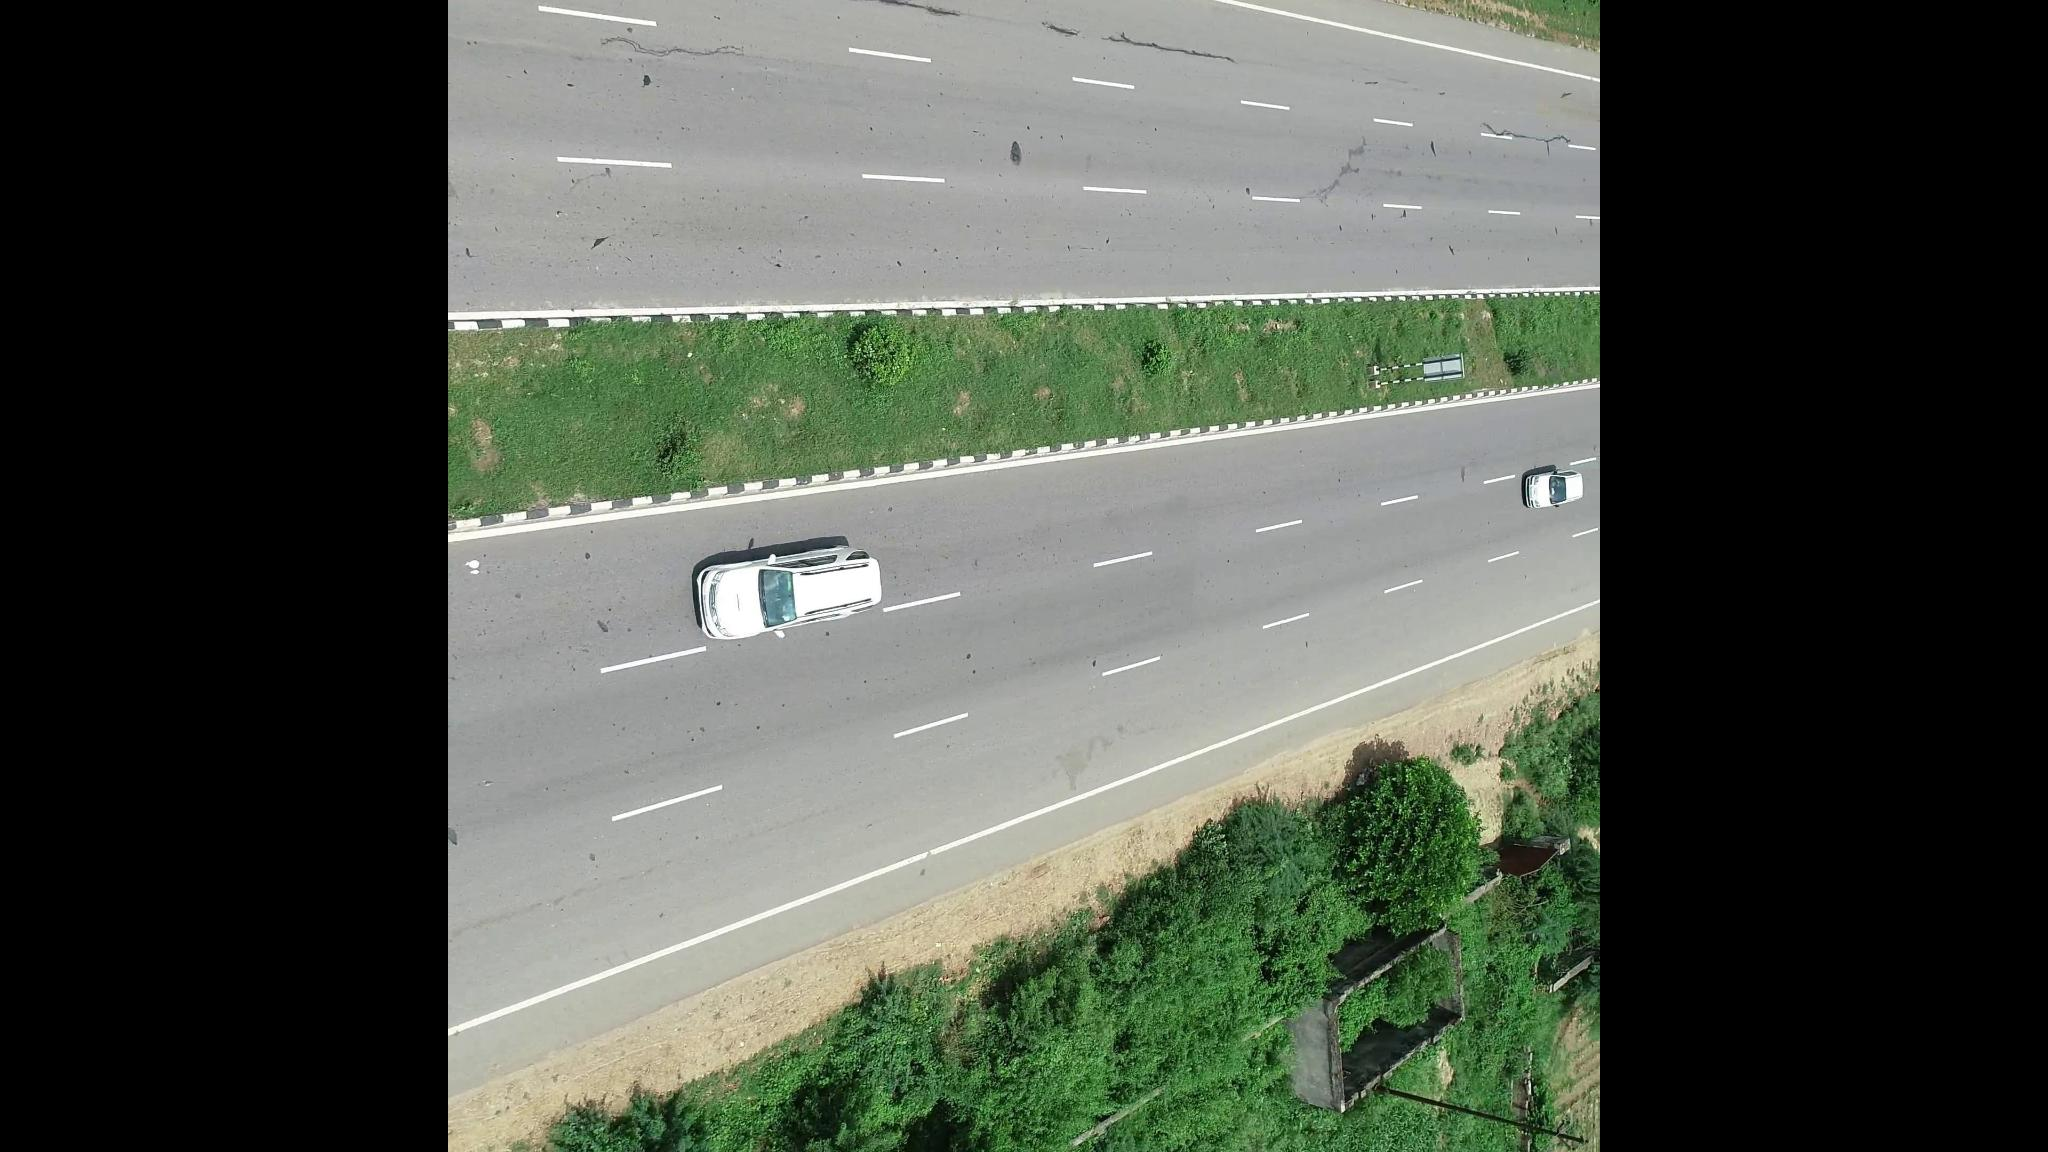Cracks: (1048, 1, 1250, 82), (783, 1, 969, 38), (601, 31, 745, 63)
